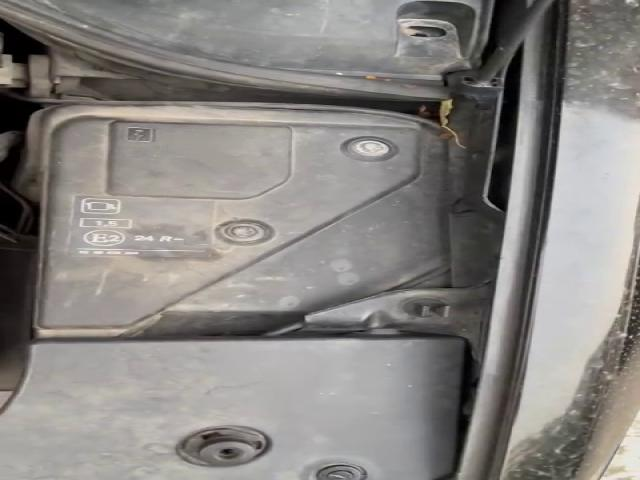fuse_box: (23, 103, 462, 340)
